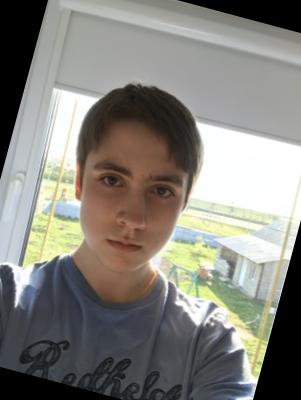without_mask: (63, 146, 192, 285)
